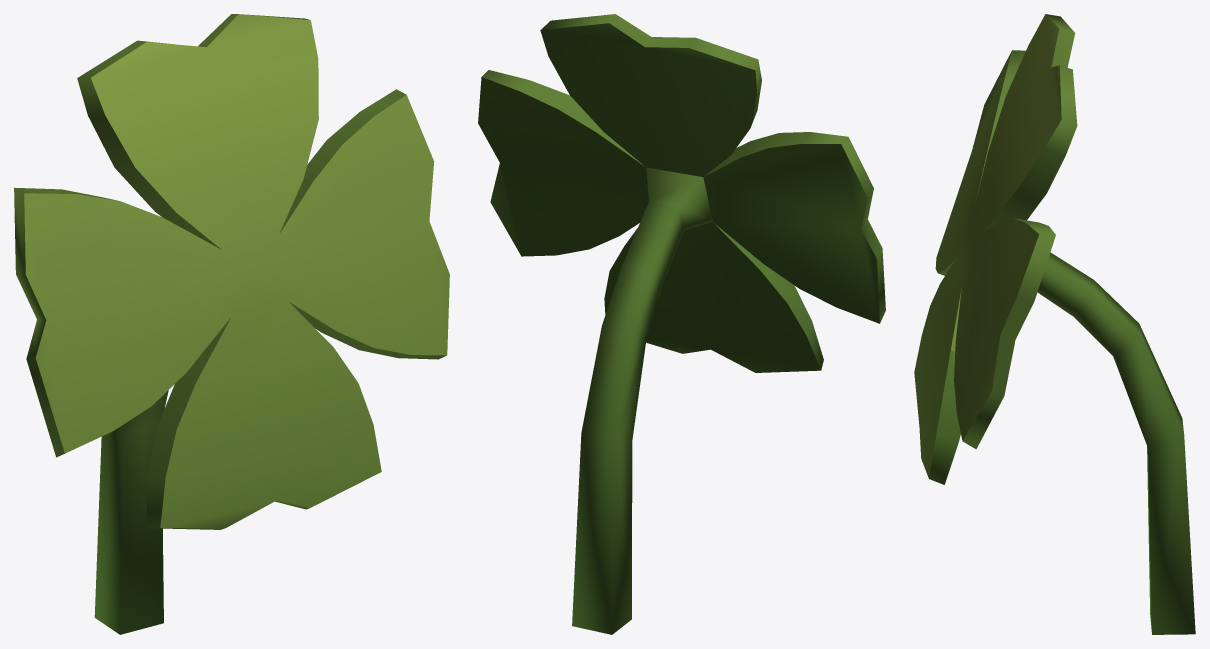
File: $leaf-clover.fbx
3 renders of one model, left to right at view 1: azimuth 30°, elevation 25°; view 2: azimuth 150°, elevation 25°; view 3: azimuth 270°, elevation 25°, orthographic. The views are drawn at different scales.
Visible parts, largest first — view 1: Cube.231; view 2: Cube.231; view 3: Cube.231.
Part boxes in pixels (x1,y1,x2,y2): Cube.231: (14,14,449,634); Cube.231: (478,14,885,634); Cube.231: (914,14,1195,634).
Bounding box in the file's own units: 0.4678 × 0.6658 × 0.2925.
